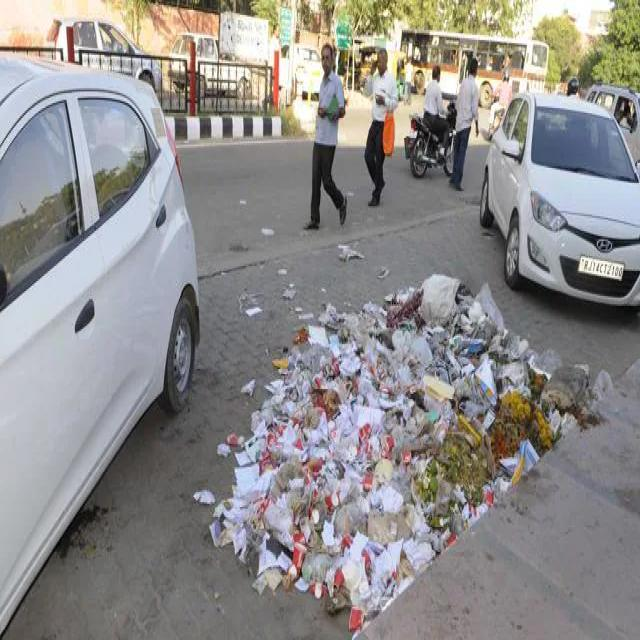garbage: (203, 248, 619, 621)
